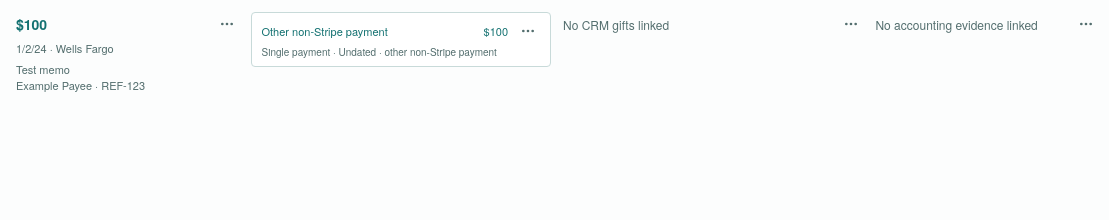
Scenario: deposit workbench rows › offers a gift-unlink correction before blocking payment unlinking
The image size is (1109, 220).
Press the mouse on the 1st button named "Card actions" at (226, 24), box [214,12,238,36]
Press the mouse on the 2nd button named "Card actions" at (528, 31), box [516,19,540,43]
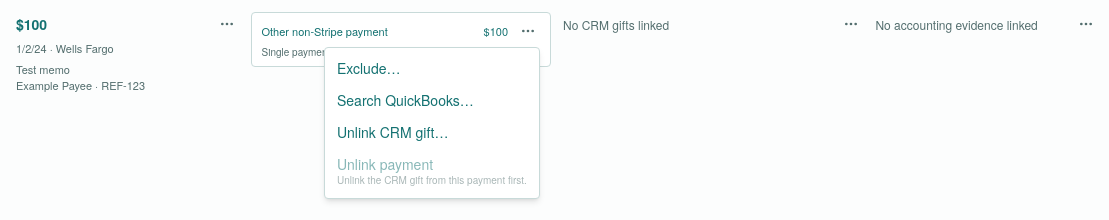
Expected: the menu item "Unlink CRM gift…" is shown, [337,122,448,142]
Expected: the menu item "Unlink payment Unlink the CRM gift from this payment first." is shown, [329,148,535,194]
Expected: the menu shows "Unlink the CRM gift from this payment first.", [337,173,527,187]
